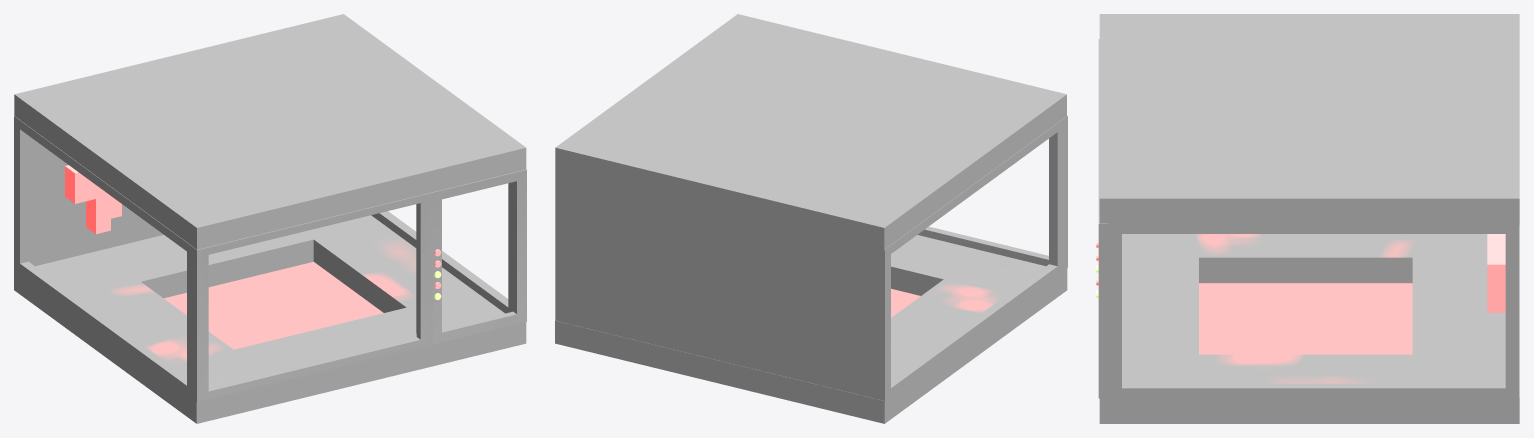
File: room_final.fbx
3 renders of one model, left to right at view 1: azimuth 30°, elevation 25°; view 2: azimuth 150°, elevation 25°; view 3: azimuth 270°, elevation 25°, orthographic. The views are drawn at different scales.
Visible parts, largest first — view 1: pCube13, pCube12, polySurface12, polySurface7, pCube10, polySurface20, polySurface8, pCube2; view 2: pCube13, pCube10, pCube12, polySurface7, polySurface12, polySurface8; view 3: pCube13, pCube12, polySurface8, polySurface20, pCube2.
Part boxes in pixels (x1,y1,x2,y2): pCube13: (14,14,526,249); pCube12: (14,215,526,423); polySurface12: (193,192,432,402); polySurface7: (14,116,192,398); pCube10: (28,136,163,266); polySurface20: (432,169,526,344); polySurface8: (371,182,513,313); pCube2: (65,165,121,233); pCube13: (555,14,1066,250); pCube10: (562,172,877,398); pCube12: (555,235,1067,423); polySurface7: (877,119,1063,401); polySurface12: (917,115,1067,270); polySurface8: (555,170,562,322); pCube13: (1099,14,1519,224); pCube12: (1099,225,1519,423); polySurface8: (1108,223,1519,398); polySurface20: (1098,171,1108,398); pCube2: (1487,234,1505,312).
Bounding box in the file's own units: 61.34 × 34.81 × 59.34.
